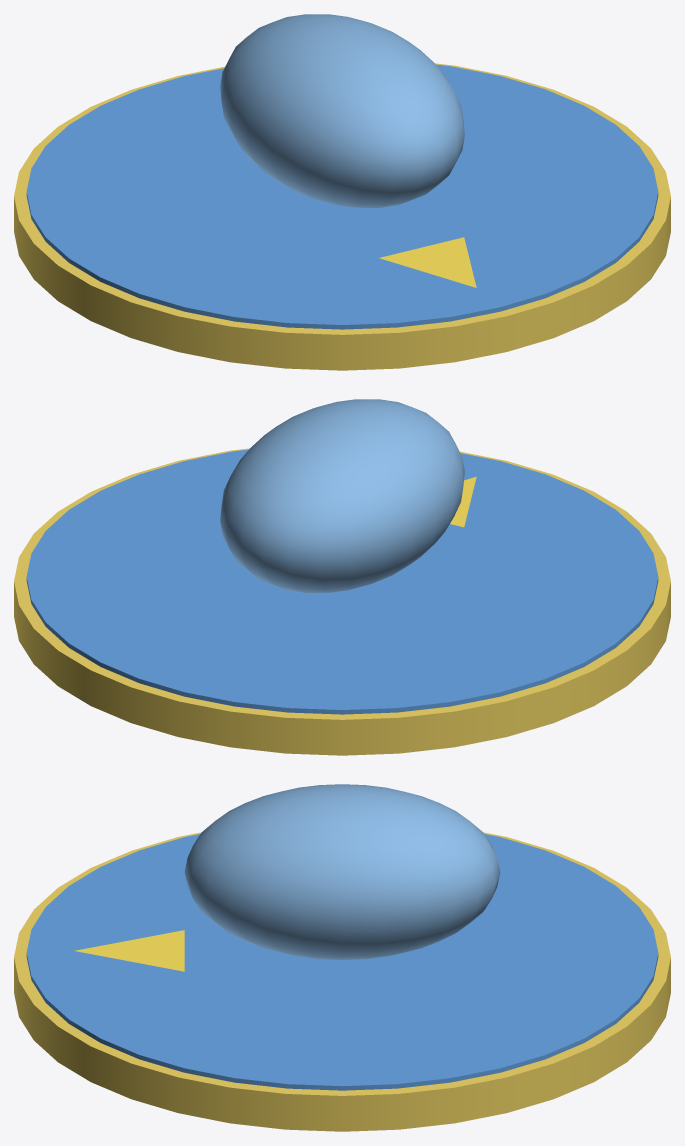
Rendered from dept2.glb.
3 renders of one model, top to bottom at view 1: azimuth 30°, elevation 25°; view 2: azimuth 150°, elevation 25°; view 3: azimuth 270°, elevation 25°, orthographic.
Parts seen in each view (by area): view 1: PedestalBase, SharkBody, PedestalRim, PedestalAccent; view 2: PedestalBase, SharkBody, PedestalRim, PedestalAccent; view 3: PedestalBase, SharkBody, PedestalRim, PedestalAccent.
Part boxes in pixels (box(x1,y1,x2,y2)): PedestalBase: box(26, 64, 658, 329); SharkBody: box(220, 14, 464, 207); PedestalRim: box(14, 63, 670, 370); PedestalAccent: box(379, 237, 476, 287); PedestalBase: box(26, 449, 658, 714); SharkBody: box(220, 399, 464, 592); PedestalRim: box(14, 448, 670, 755); PedestalAccent: box(450, 476, 476, 527); PedestalBase: box(26, 834, 658, 1090); SharkBody: box(184, 784, 500, 959); PedestalRim: box(14, 832, 670, 1131); PedestalAccent: box(74, 930, 184, 971).
Bounding box in the file's own units: 3.33 × 1.12 × 3.33.
